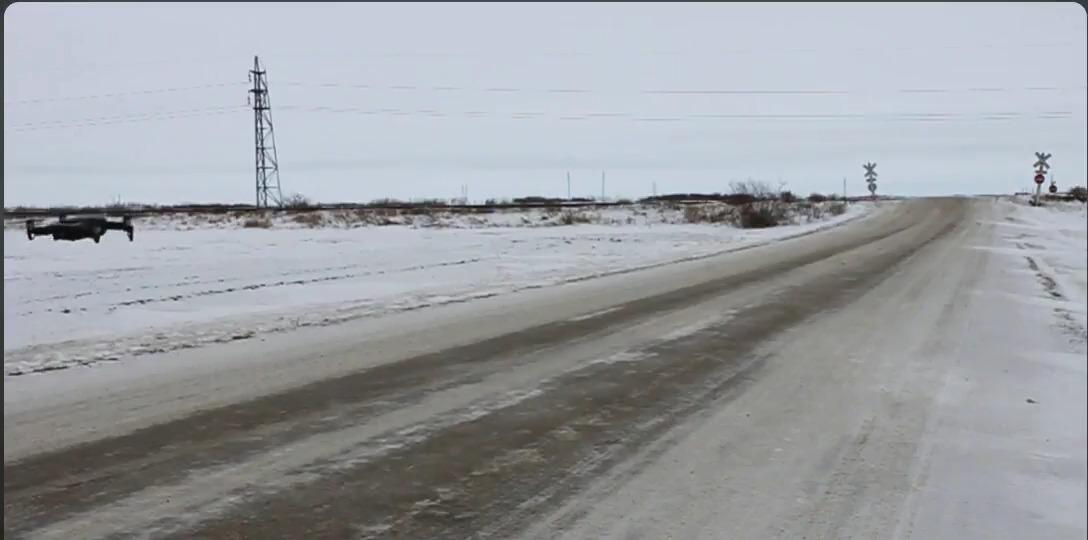dr: (14, 206, 147, 248)
